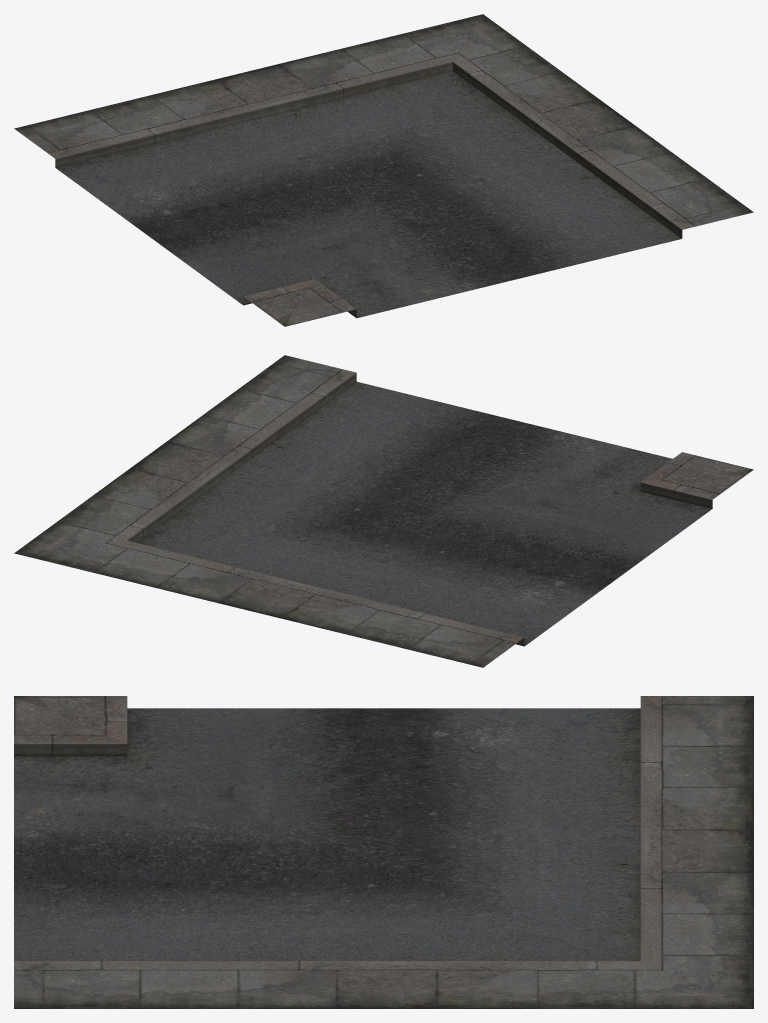
File: Road_set_v1_s_bend_2.glb
3 views of the same model, one above another, from view 1: azimuth 30°, elevation 25°; view 2: azimuth 150°, elevation 25°; view 3: azimuth 270°, elevation 25° (orthographic). The views are drawn at different scales.
Parts seen in each view (by area): view 1: Road_set_v1_s_bend_2; view 2: Road_set_v1_s_bend_2; view 3: Road_set_v1_s_bend_2.
Boxes of the visible parts, box(x1,y1,x2,y2) form: Road_set_v1_s_bend_2: box(14, 14, 753, 326); Road_set_v1_s_bend_2: box(14, 355, 753, 667); Road_set_v1_s_bend_2: box(14, 696, 753, 1008).
Size of the model in its own units: 10 by 0.1836 by 10.
1 material, 1 textured.
